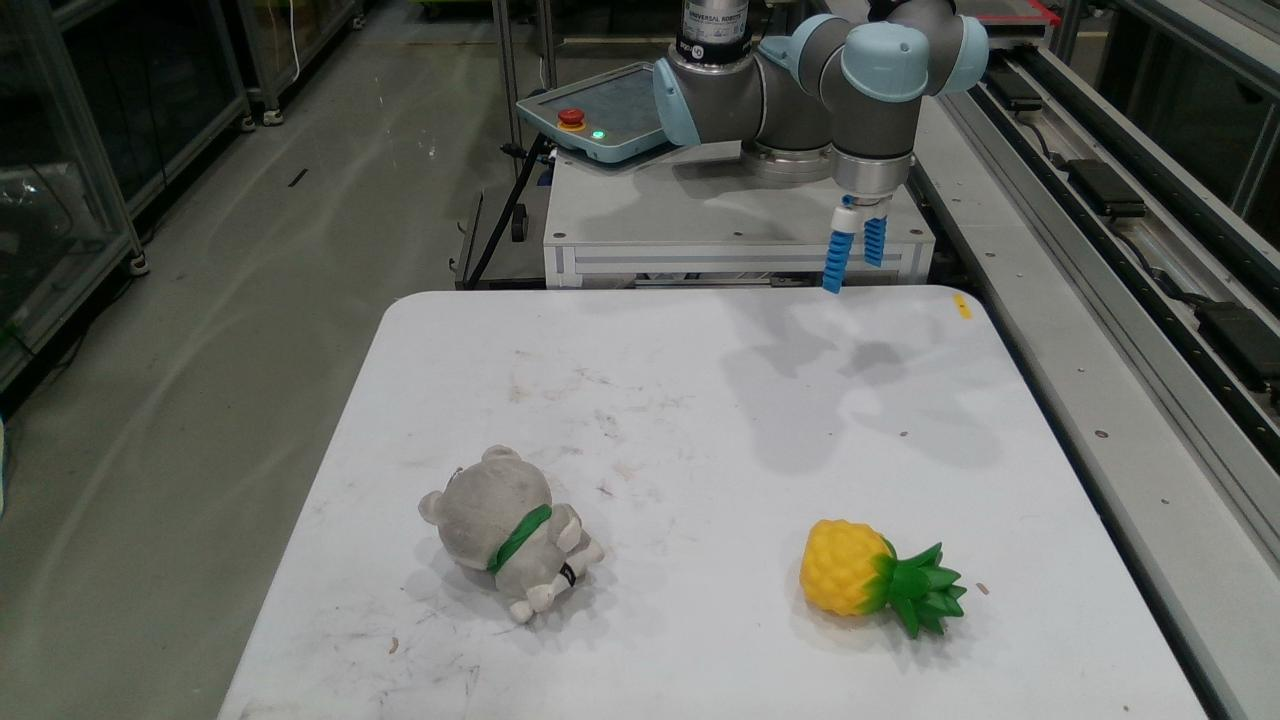UR5: (656, 1, 988, 232)
gripper_left: (824, 232, 852, 291)
gripper_right: (864, 217, 886, 264)
target: (422, 446, 600, 616), (804, 521, 966, 633)
